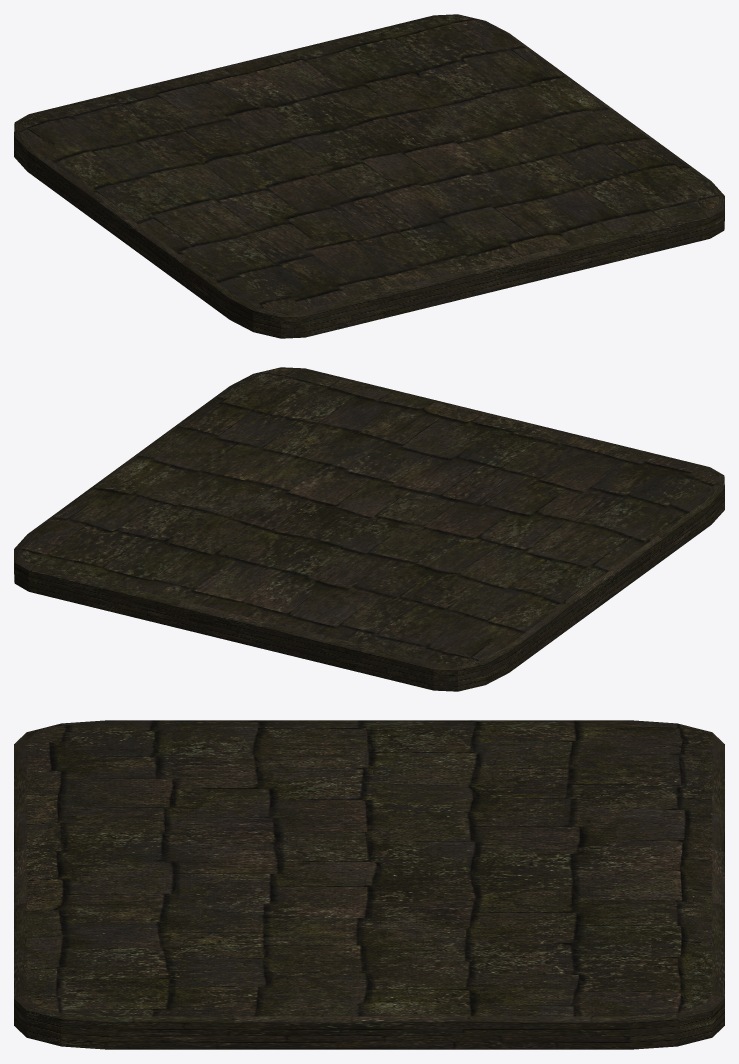
Rendered from PlaqueToitSombre.glb.
The picture shows the model from 3 angles, top to bottom: view 1: azimuth 30°, elevation 25°; view 2: azimuth 150°, elevation 25°; view 3: azimuth 270°, elevation 25°; orthographic projection. The views are drawn at different scales.
Parts seen in each view (by area): view 1: PlaqueBas.002; view 2: PlaqueBas.002; view 3: PlaqueBas.002.
Part boxes in pixels (x1,y1,x2,y2): PlaqueBas.002: (14, 14, 724, 338); PlaqueBas.002: (14, 367, 724, 691); PlaqueBas.002: (14, 720, 724, 1049).
Size of the model in its own units: 57.59 by 3.49 by 57.23.
Materials: 1 (1 with a texture image).
